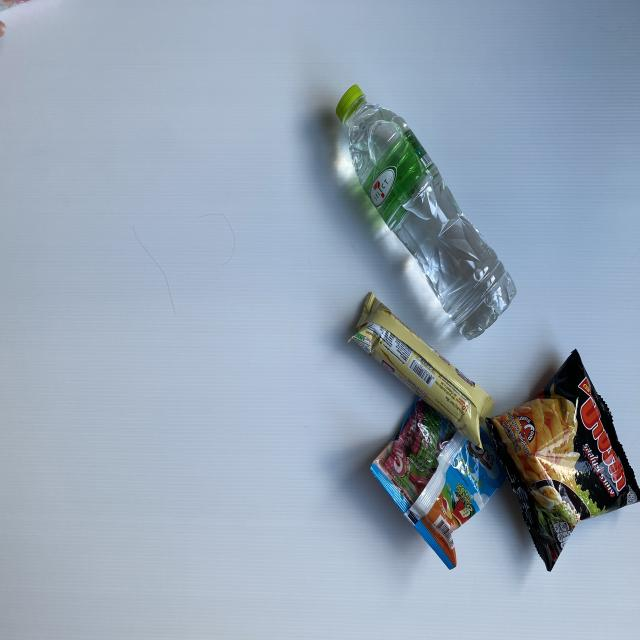candy: (370, 396, 506, 570)
cracker: (348, 292, 493, 449)
snack: (487, 349, 639, 571)
water: (335, 86, 516, 342)
